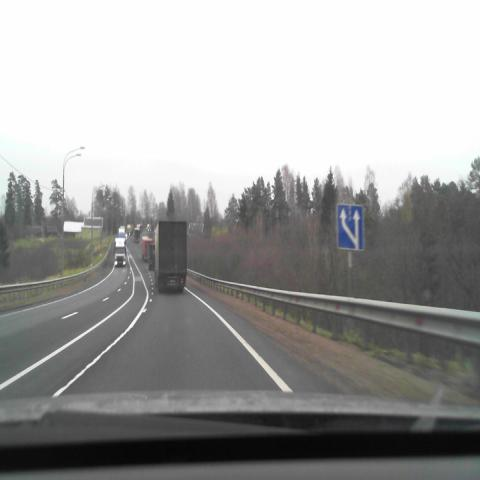5_15_3: (336, 203, 364, 251)
